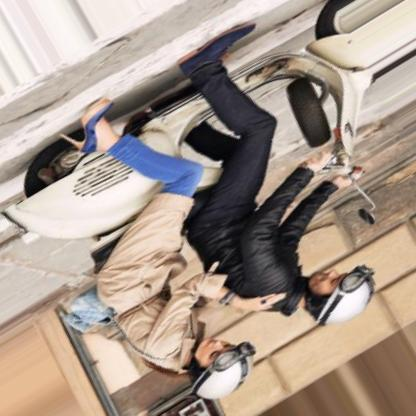with helmet: (305, 260, 377, 330), (189, 337, 254, 400)
